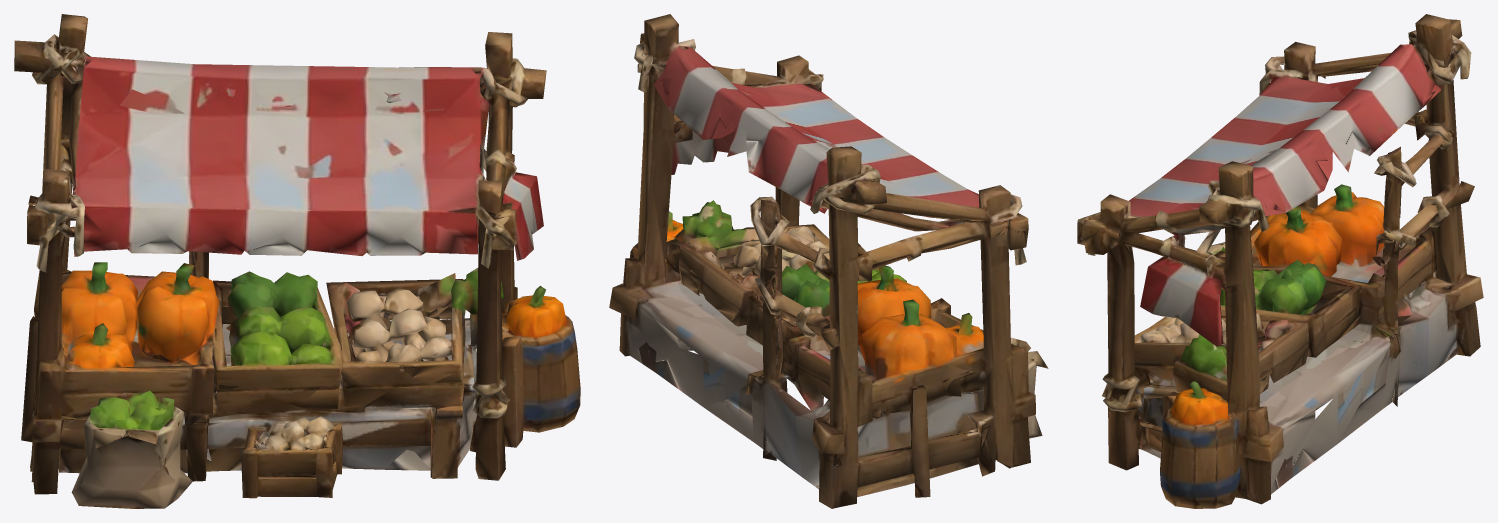
The model's file is bld_stall.glb.
The picture shows the model from 3 angles, left to right: view 1: azimuth 30°, elevation 25°; view 2: azimuth 150°, elevation 25°; view 3: azimuth 270°, elevation 25°; orthographic projection. The views are drawn at different scales.
Parts seen in each view (by area): view 1: BakeLow; view 2: BakeLow; view 3: BakeLow.
Boxes of the visible parts, left/top/right/bottom form: BakeLow: left=14, top=14, right=580, bottom=508; BakeLow: left=609, top=14, right=1048, bottom=508; BakeLow: left=1077, top=14, right=1483, bottom=508.
Size of the model in its own units: 0.8974 by 0.6668 by 0.7224.
Materials: 1 (1 with a texture image).
